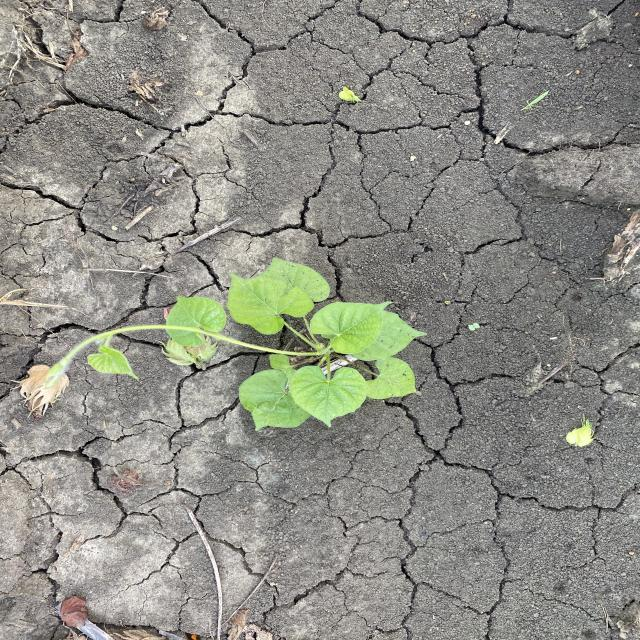MorningGlory: (39, 256, 433, 434)
